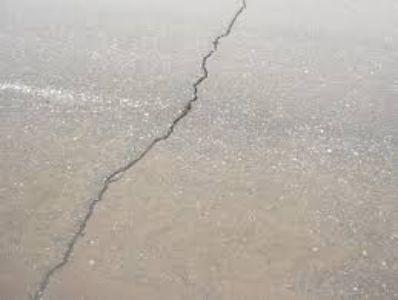crack: (25, 167, 112, 300), (105, 95, 196, 174), (187, 2, 253, 101)
